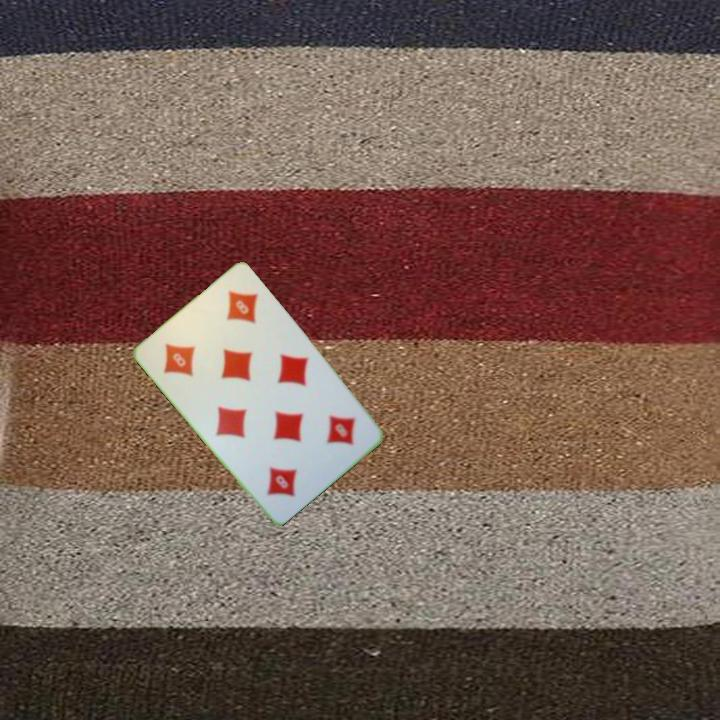d_8.png: (289, 391, 375, 476), (144, 312, 230, 397)
